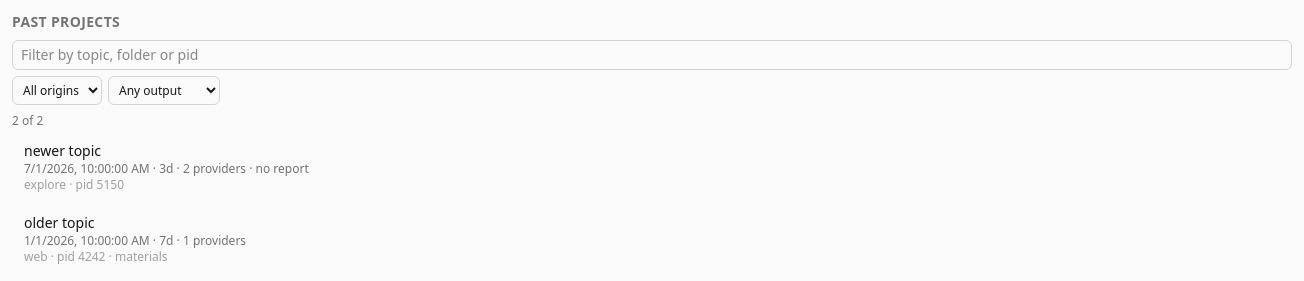
Test: ProjectList › filters by output so runs that produced nothing can be found
Select "No report" in the dropdown named "Filter by output": [164, 90] box x1=108 y1=76 x2=220 y2=105
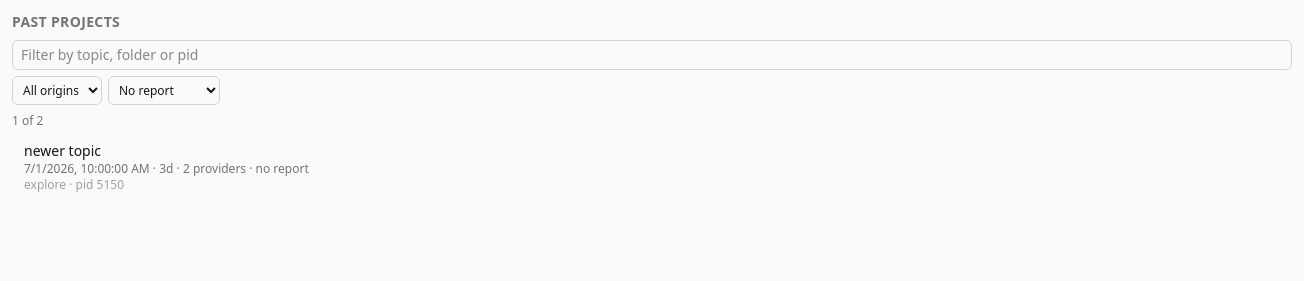
Expected: the text "newer topic" is shown, x1=24 y1=141 x2=101 y2=160
Now the button "older topic" is gone
